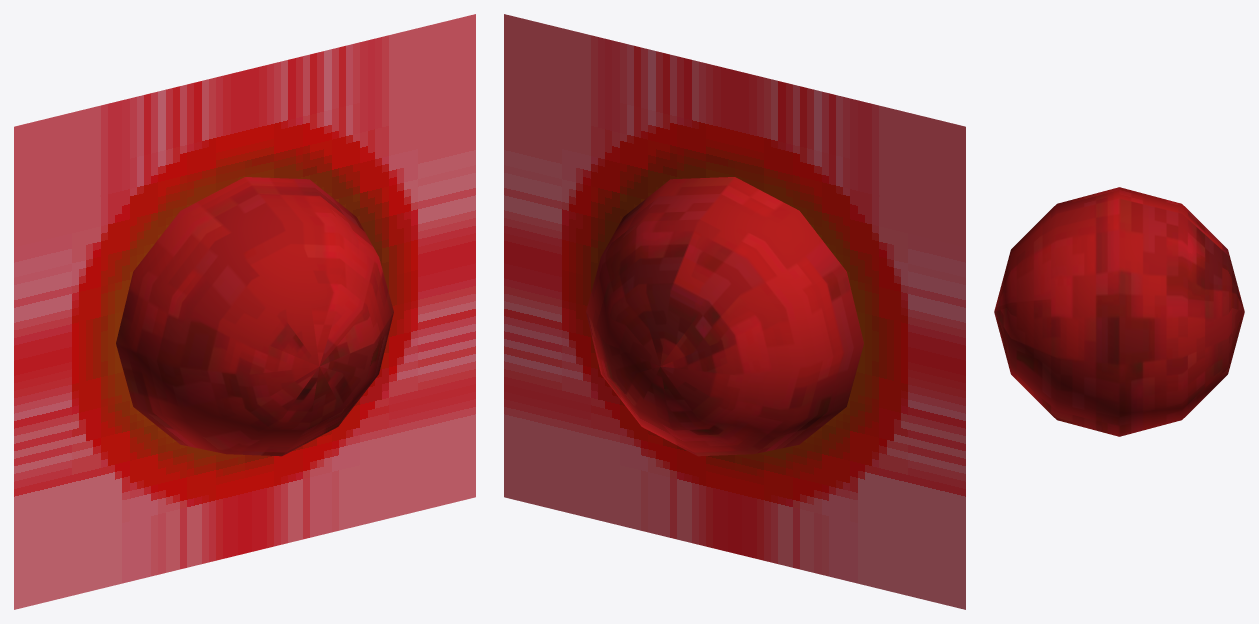
The model's file is BonusGhostSuperCharge.fbx.
3 renders of one model, left to right at view 1: azimuth 30°, elevation 25°; view 2: azimuth 150°, elevation 25°; view 3: azimuth 270°, elevation 25°, orthographic. The views are drawn at different scales.
Parts seen in each view (by area): view 1: ChargeEffect, BonusGhostSuperCharge; view 2: ChargeEffect, BonusGhostSuperCharge; view 3: BonusGhostSuperCharge.
Boxes of the visible parts, bbox=[...] form: ChargeEffect: bbox=[14, 14, 475, 609]; BonusGhostSuperCharge: bbox=[116, 177, 393, 456]; ChargeEffect: bbox=[504, 14, 965, 609]; BonusGhostSuperCharge: bbox=[586, 177, 863, 456]; BonusGhostSuperCharge: bbox=[994, 187, 1244, 436].
Bounding box in the file's own units: 6.4 × 6.4 × 3.58.
2 materials, 2 textured.
